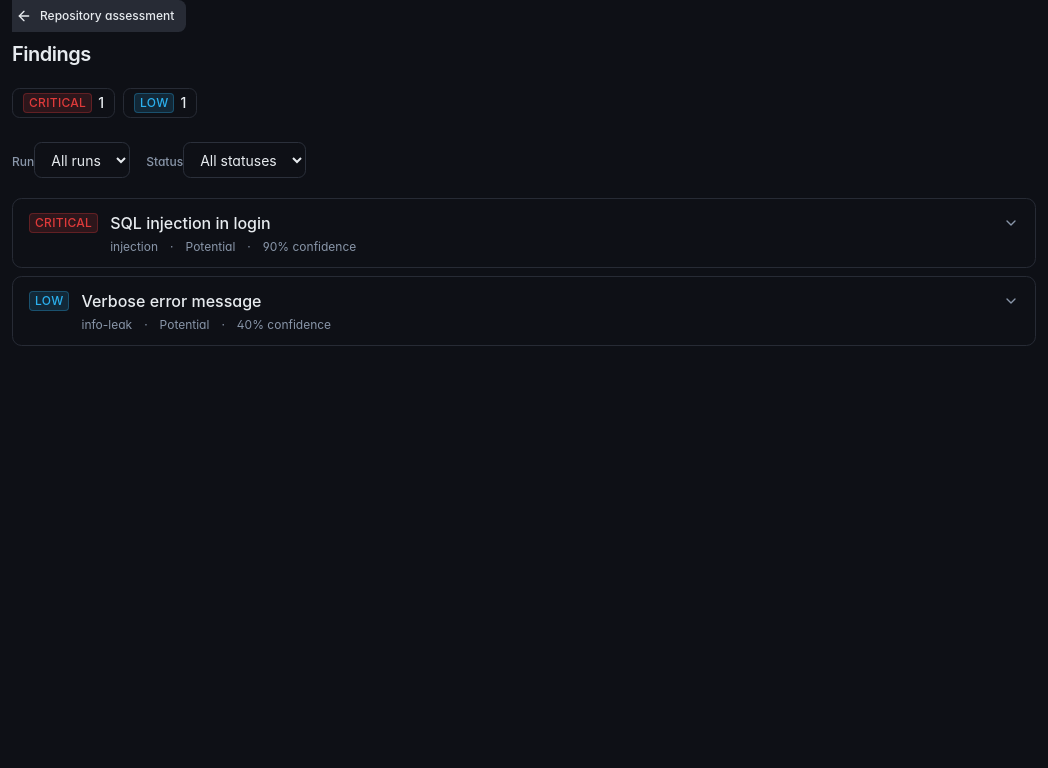
Test: AssessmentFindingsPage › reveals the advisory AI explanation panel when a finding is expanded
The image size is (1048, 768).
Check: the text "SQL injection in login" is shown, box [110,213,271,233]
Click the button "SQL injection in login".
click(64, 223)  # box [13,199,1035,267]
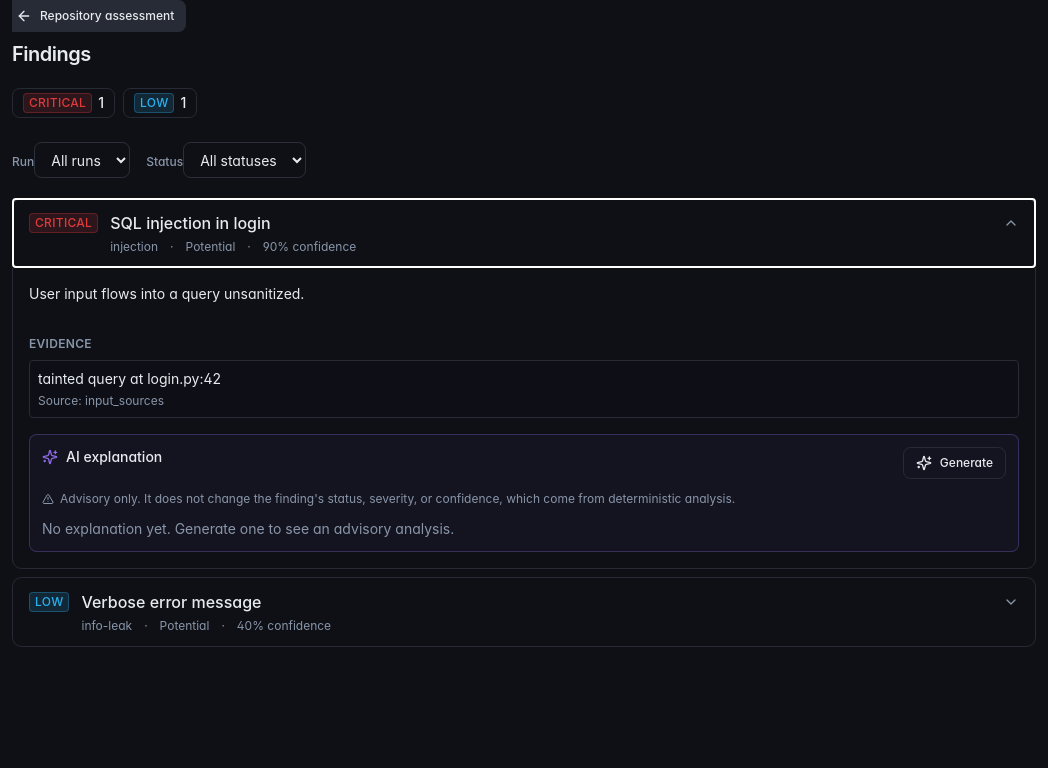
Check: the text "Advisory only" is shown, box [60,491,735,506]
Check: the button "Generate" is shown, box [903,447,1006,479]
